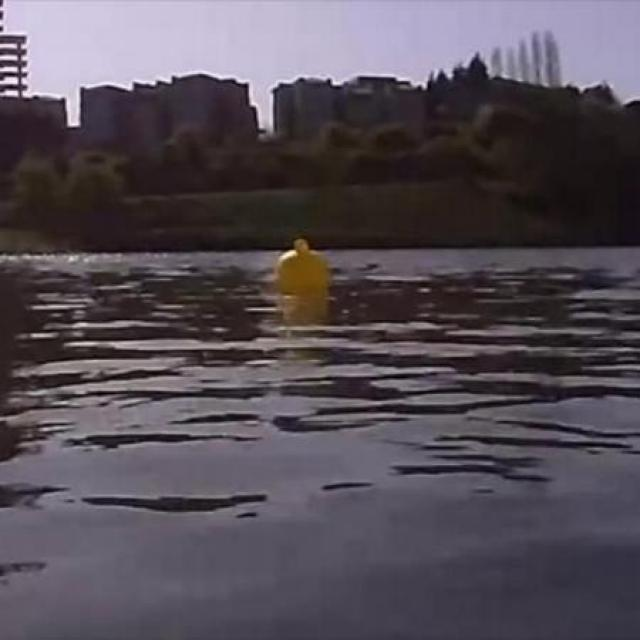buoy: (275, 240, 331, 290)
